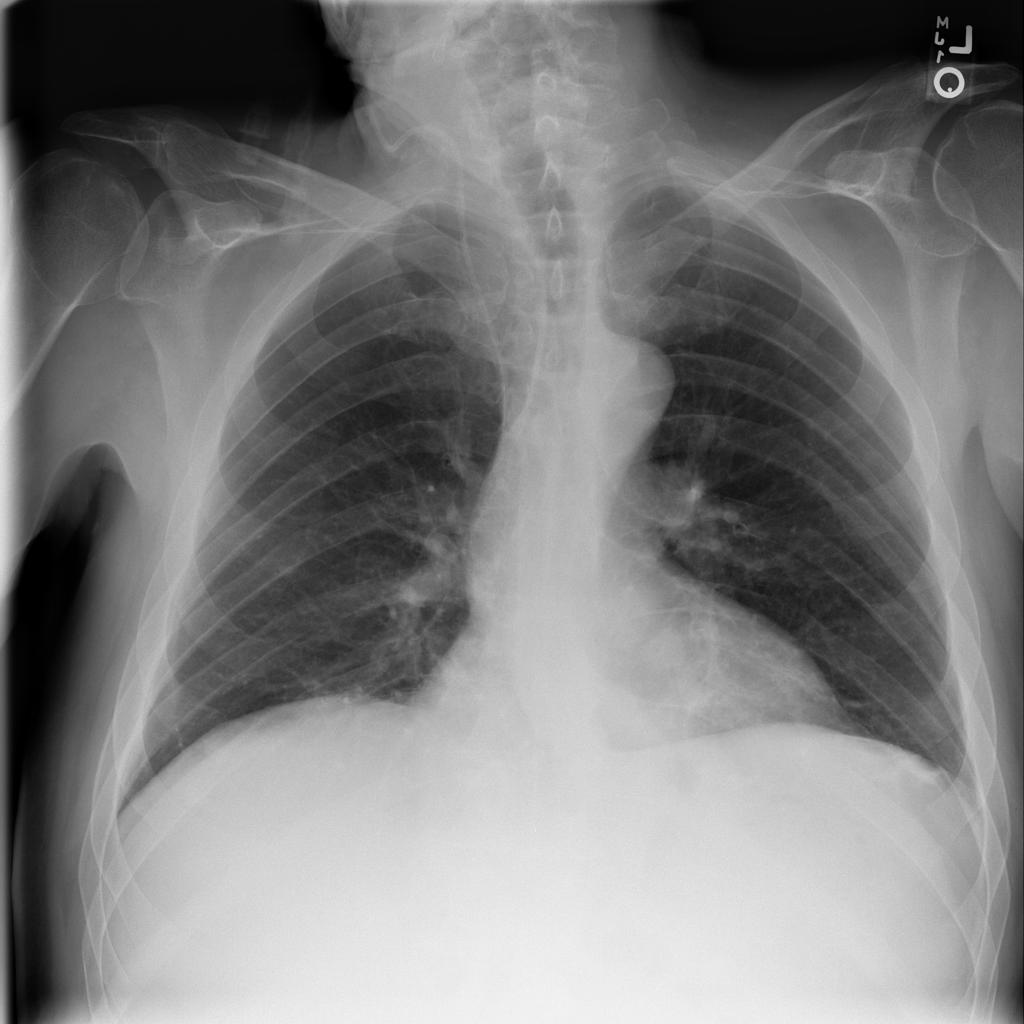nodule: (628, 616, 707, 686)
